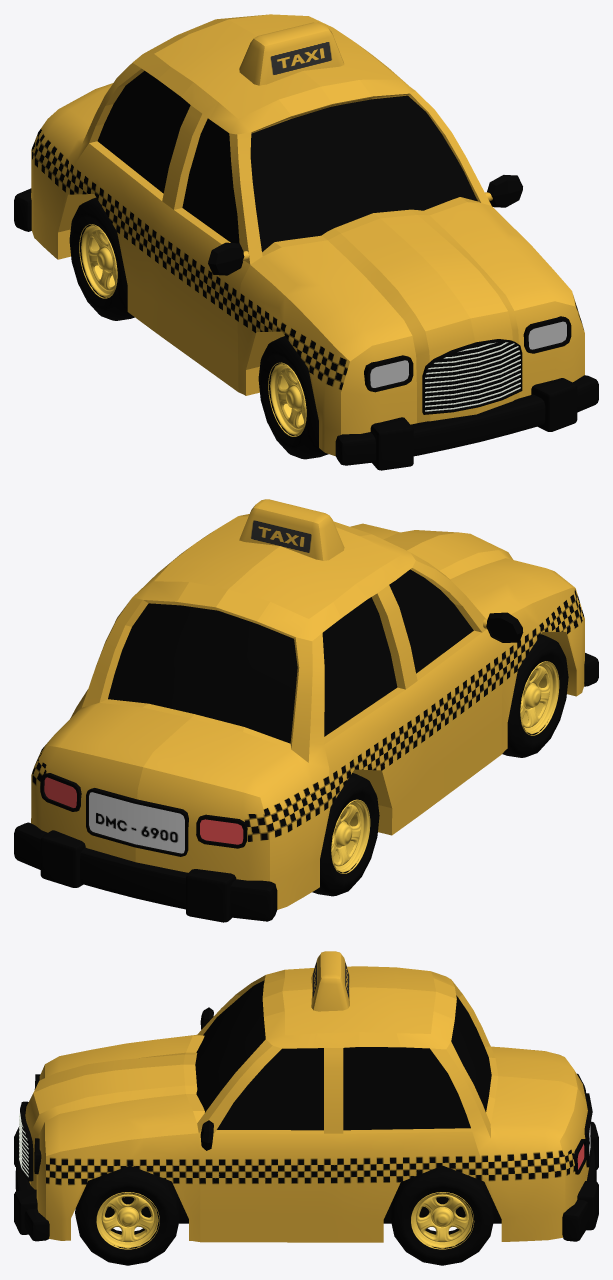
File: cartoon_taxi_low_poli.glb
3 renders of one model, top to bottom at view 1: azimuth 30°, elevation 25°; view 2: azimuth 150°, elevation 25°; view 3: azimuth 270°, elevation 25°, orthographic. The views are drawn at different scales.
Visible parts, largest first — view 1: Police_Car_Body2, polySurface26, polySurface41, Bumper_police, Glass_police, pCube17, Net_part_taxi, Tyre_jeep:Jeep_tyre24, Jeep_tyre25, Alloy_Tyre_taxi, Alloy_Tyre_taxi3434, pCube10 (+7 smaller); view 2: Police_Car_Body2, GLASS_POLICE, pCube4, polySurface41, Police_Car_Body3, Glass_police, pCube17, Tyre_jeep:Jeep_tyre24, Jeep_tyre25, Pimper2, Alloy_Tyre_taxi, Alloy_Tyre_taxi3434 (+4 smaller); view 3: Police_Car_Body2, polySurface43, polySurface42, Jeep_tyre24, Jeep_tyre26, polySurface26, Alloy_Tyre_taxi34, Alloy_Tyre_taxi343434, GLASS_POLICE, pCube17, pCube4, Bumper_police (+5 smaller).
Part boxes in pixels (<box>): Police_Car_Body2: <box>31,14,584,456</box>; polySurface26: <box>250,95,477,251</box>; polySurface41: <box>97,71,190,193</box>; Bumper_police: <box>335,375,598,465</box>; Glass_police: <box>182,118,239,243</box>; pCube17: <box>239,22,344,85</box>; Net_part_taxi: <box>425,341,519,412</box>; Tyre_jeep:Jeep_tyre24: <box>258,336,328,459</box>; Jeep_tyre25: <box>69,197,134,320</box>; Alloy_Tyre_taxi: <box>268,362,306,436</box>; Alloy_Tyre_taxi3434: <box>79,224,117,298</box>; pCube10: <box>370,417,413,470</box>; Police_Car_Body2: <box>31,514,584,909</box>; GLASS_POLICE: <box>108,603,297,743</box>; pCube4: <box>14,822,277,921</box>; polySurface41: <box>322,597,397,736</box>; Police_Car_Body3: <box>86,788,188,856</box>; Glass_police: <box>389,569,473,673</box>; pCube17: <box>239,499,344,560</box>; Tyre_jeep:Jeep_tyre24: <box>502,634,568,757</box>; Jeep_tyre25: <box>312,773,379,896</box>; Pimper2: <box>186,869,236,922</box>; Alloy_Tyre_taxi: <box>520,661,559,735</box>; Alloy_Tyre_taxi3434: <box>331,799,370,873</box>; Police_Car_Body2: <box>25,966,588,1242</box>; polySurface43: <box>343,1047,470,1130</box>; polySurface42: <box>217,1048,323,1130</box>; Jeep_tyre24: <box>75,1165,180,1265</box>; Jeep_tyre26: <box>389,1165,495,1265</box>; polySurface26: <box>195,980,265,1112</box>; Alloy_Tyre_taxi34: <box>96,1192,159,1249</box>; Alloy_Tyre_taxi343434: <box>411,1192,474,1249</box>; GLASS_POLICE: <box>451,995,491,1111</box>; pCube17: <box>311,951,349,1011</box>; pCube4: <box>562,1142,596,1241</box>; Bumper_police: <box>15,1148,49,1241</box>.
Bounding box in the file's own units: 0.1329 × 0.1233 × 0.2568.
Materials: 12 (3 with a texture image).
